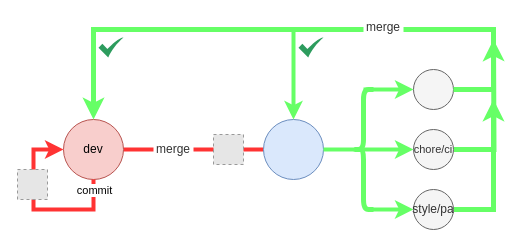
Some shapes in this 522 by 247 pixel diagram are drawn without their labels. Grey dashed boxes stand in for pictures. The shapes that lost their labels are listed below. From the top down, each one's box as (x1, y1, x2, y2) in pixels, then its label:
(412, 68, 454, 110): feat/cat
(262, 118, 324, 180): master
